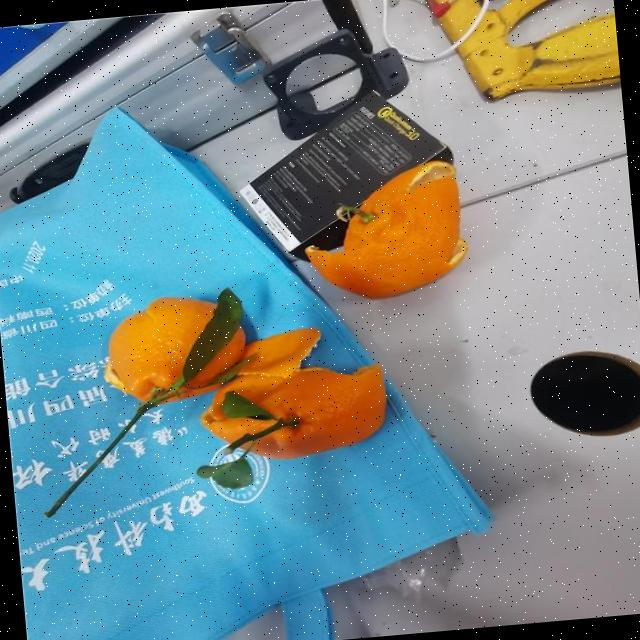orange-peel: (297, 156, 471, 305), (198, 358, 390, 466), (99, 288, 250, 405)
